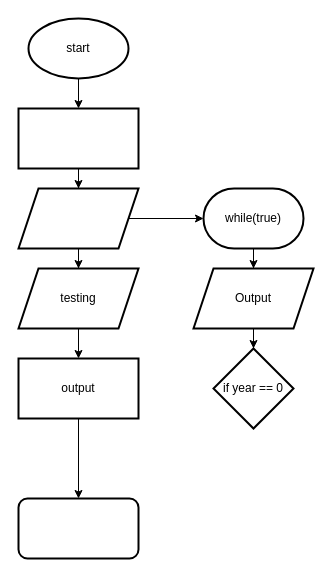
Some shapes in this 331 by 576 pixel diagram are drawn without their labels. Here are the shapes that lost their labels. From the top down, the centre of each, then its label:
At pixel 78 138: "Declarations num year".
At pixel 78 218: "Scanner input".
At pixel 78 528: "close".
